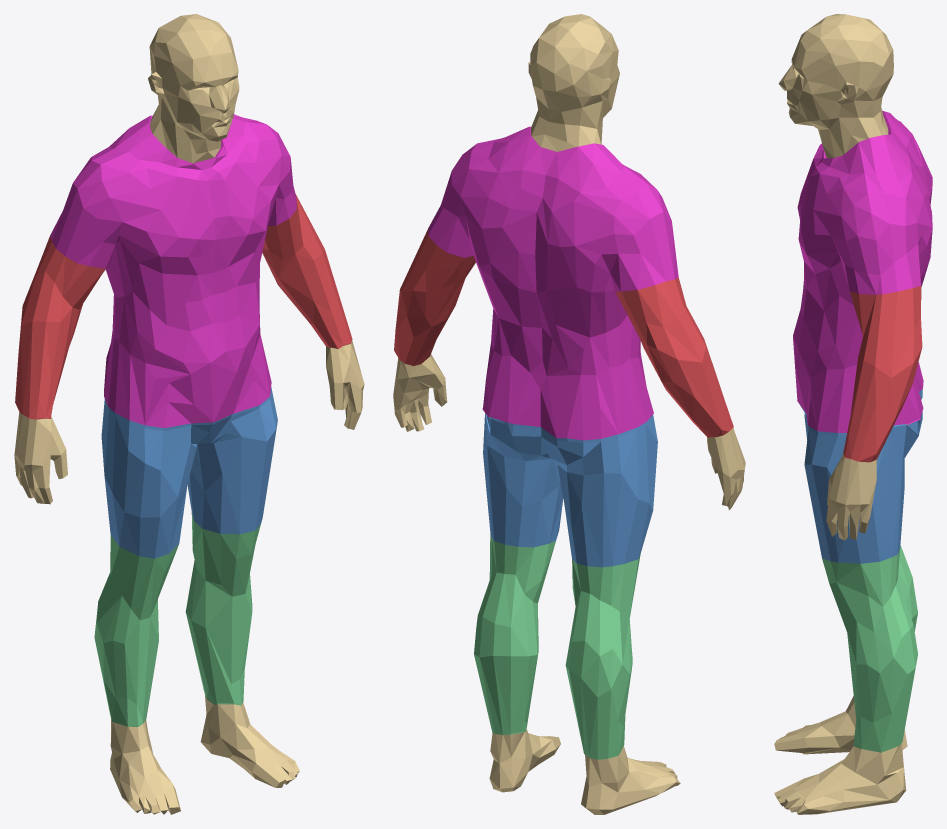
The model's file is model_male.fbx.
3 views of the same model, side by side, from view 1: azimuth 30°, elevation 25°; view 2: azimuth 150°, elevation 25°; view 3: azimuth 270°, elevation 25° (orthographic).
Visible parts, largest first — view 1: model_male; view 2: model_male; view 3: model_male.
Boxes of the visible parts, <box> form: model_male: <box>14,14,364,814</box>; model_male: <box>393,14,745,814</box>; model_male: <box>774,14,932,814</box>.
Bounding box in the file's own units: 181 × 387 × 73.19.
